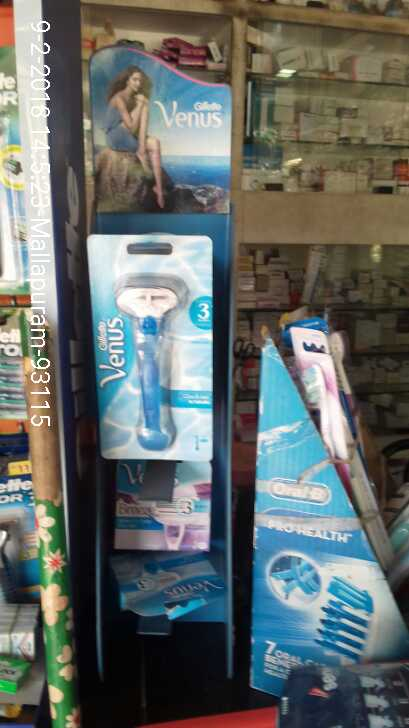venus: (85, 235, 214, 458), (113, 452, 215, 552)
